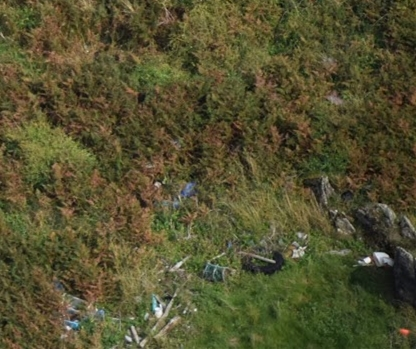together_barrel: (37, 231, 308, 349)
white_in_green: (150, 163, 221, 222), (352, 230, 414, 288)
